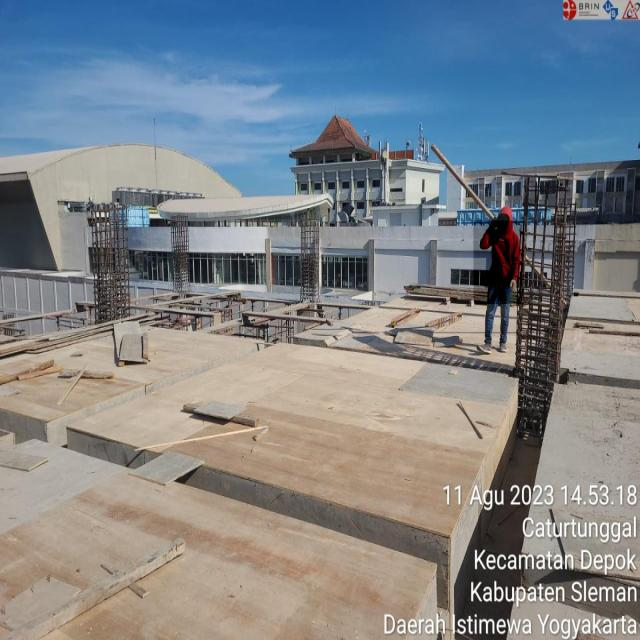Helmet: (474, 220, 524, 304), (486, 195, 522, 233)
